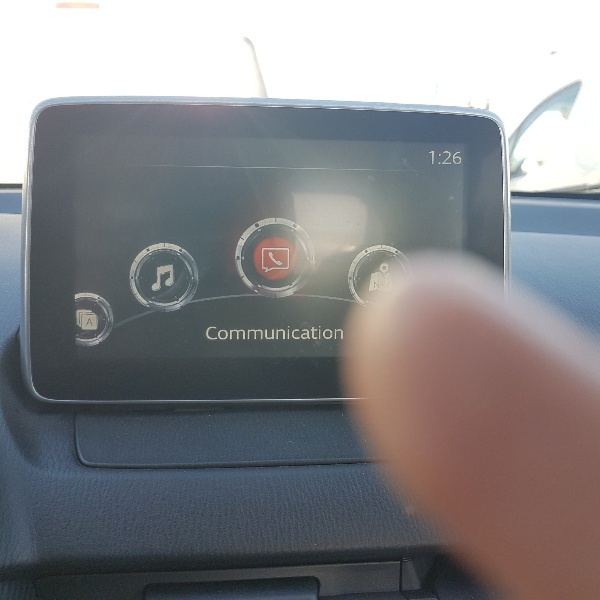text: (433, 151, 448, 165), (209, 326, 224, 340), (225, 326, 240, 340), (241, 326, 256, 340), (257, 326, 272, 340), (273, 326, 288, 340), (289, 326, 304, 340), (305, 326, 320, 340), (321, 326, 336, 340), (449, 151, 463, 165), (337, 326, 344, 340), (374, 281, 384, 289), (88, 319, 96, 327), (429, 151, 432, 165), (385, 281, 390, 289), (207, 326, 208, 340)
